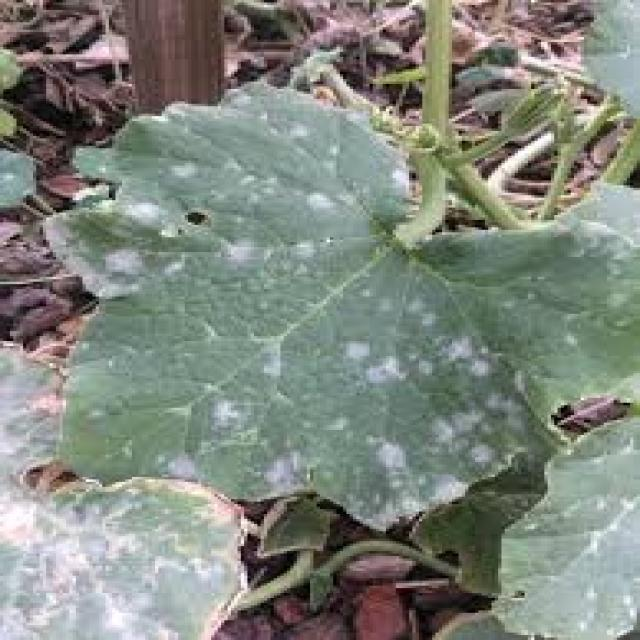powdery-mildew: (0, 371, 174, 640), (342, 318, 496, 488), (38, 203, 170, 282)
